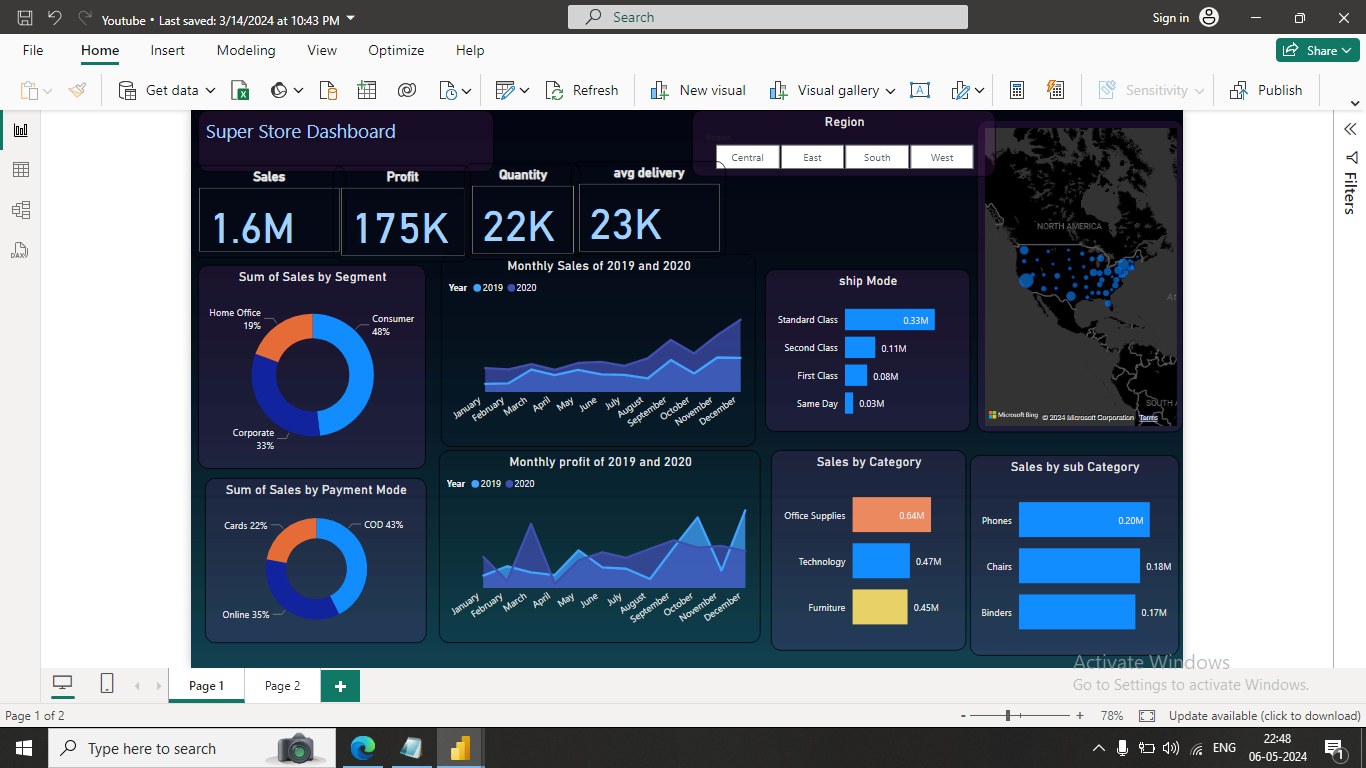

What the dashboard file says about the page in this screenshot:
{"tool":"powerbi","page":{"name":"Page 1","canvas":[1280,720],"ordinal":0},"visuals":[{"type":"clusteredBarChart","title":"Sales by Category","fields":{"Y":["Sum(SuperStore_Sales_Dataset.Sales)"],"Category":["SuperStore_Sales_Dataset.Category"]},"box":[755.4,445.8,250.6,259],"z":0},{"type":"clusteredBarChart","title":"Sales by sub Category","fields":{"Y":["Sum(SuperStore_Sales_Dataset.Sales)"],"Category":["SuperStore_Sales_Dataset.Sub-Category"]},"box":[1010.8,421.7,268.7,225.3],"z":1000},{"type":"clusteredBarChart","title":"ship Mode","fields":{"Y":["Sum(SuperStore_Sales_Dataset.Sales)"],"Category":["SuperStore_Sales_Dataset.Ship Mode"]},"box":[748.2,200,265.1,210.8],"z":2000},{"type":"areaChart","title":"Monthly Sales of 2019 and 2020","fields":{"Y":["Sum(SuperStore_Sales_Dataset.Sales)"],"Category":["SuperStore_Sales_Dataset.Order Date.Variation.Date Hierarchy.Month","SuperStore_Sales_Dataset.Order Date.Variation.Date Hierarchy.Day"],"Series":["SuperStore_Sales_Dataset.Order Date.Variation.Date Hierarchy.Year"]},"box":[332.5,173.5,407.2,248.2],"z":3000},{"type":"areaChart","title":"Monthly profit of 2019 and 2020","fields":{"Category":["SuperStore_Sales_Dataset.Order Date.Variation.Date Hierarchy.Month","SuperStore_Sales_Dataset.Order Date.Variation.Date Hierarchy.Day"],"Series":["SuperStore_Sales_Dataset.Order Date.Variation.Date Hierarchy.Year"],"Y":["Sum(SuperStore_Sales_Dataset.Profit)"]},"box":[324.1,438.6,415.7,249.4],"z":4000},{"type":"map","fields":{"Category":["SuperStore_Sales_Dataset.State"],"Size":["Sum(SuperStore_Sales_Dataset.Sales)"]},"box":[1038.6,13.3,241,367.5],"z":5000},{"type":"donutChart","fields":{"Category":["SuperStore_Sales_Dataset.Segment"],"Y":["Sum(SuperStore_Sales_Dataset.Sales)"]},"box":[9.6,200,294,262.7],"z":6000},{"type":"donutChart","fields":{"Y":["Sum(SuperStore_Sales_Dataset.Sales)"],"Category":["SuperStore_Sales_Dataset.Payment Mode"]},"box":[18.1,474.7,285.5,213.3],"z":7000},{"type":"slicer","fields":{"Values":["SuperStore_Sales_Dataset.Region"]},"box":[588,0,461.4,86.7],"z":8000},{"type":"textbox","box":[9.6,0,322.9,83.1],"z":9000},{"type":"cardVisual","title":"Sales","fields":{"Data":["Sum(SuperStore_Sales_Dataset.Sales)"]},"box":[0,79.5,200,120.5],"z":10000},{"type":"cardVisual","title":"Profit","fields":{"Data":["Sum(SuperStore_Sales_Dataset.Profit)"]},"box":[186.7,66.3,178.3,125.3],"z":11000},{"type":"cardVisual","title":"Quantity","fields":{"Data":["Sum(SuperStore_Sales_Dataset.Quantity)"]},"box":[324.1,66.3,150.6,125.3],"z":12000},{"type":"cardVisual","title":"avg delivery","fields":{"Data":["Avg(SuperStore_Sales_Dataset.Average Delivery)"]},"box":[460.2,66.3,150.6,125.3],"z":13000}]}

Visuals, with their boxes on the page's 1280x720 design canvas (x1, y1, x2, y2). These are canvas units, not pixel positions in the 1366x768 screenshot, which may show the page scaled, cropped or inside an application window:
"Sales by Category" clusteredBarChart: (755, 446, 1006, 705)
"Sales by sub Category" clusteredBarChart: (1011, 422, 1280, 647)
"ship Mode" clusteredBarChart: (748, 200, 1013, 411)
"Monthly Sales of 2019 and 2020" areaChart: (332, 174, 740, 422)
"Monthly profit of 2019 and 2020" areaChart: (324, 439, 740, 688)
map - SuperStore_Sales_Dataset.State x Sum(SuperStore_Sales_Dataset.Sales): (1039, 13, 1280, 381)
donutChart - SuperStore_Sales_Dataset.Segment x Sum(SuperStore_Sales_Dataset.Sales): (10, 200, 304, 463)
donutChart - Sum(SuperStore_Sales_Dataset.Sales) x SuperStore_Sales_Dataset.Payment Mode: (18, 475, 304, 688)
slicer - SuperStore_Sales_Dataset.Region: (588, 0, 1049, 87)
textbox: (10, 0, 332, 83)
"Sales" cardVisual: (0, 80, 200, 200)
"Profit" cardVisual: (187, 66, 365, 192)
"Quantity" cardVisual: (324, 66, 475, 192)
"avg delivery" cardVisual: (460, 66, 611, 192)
